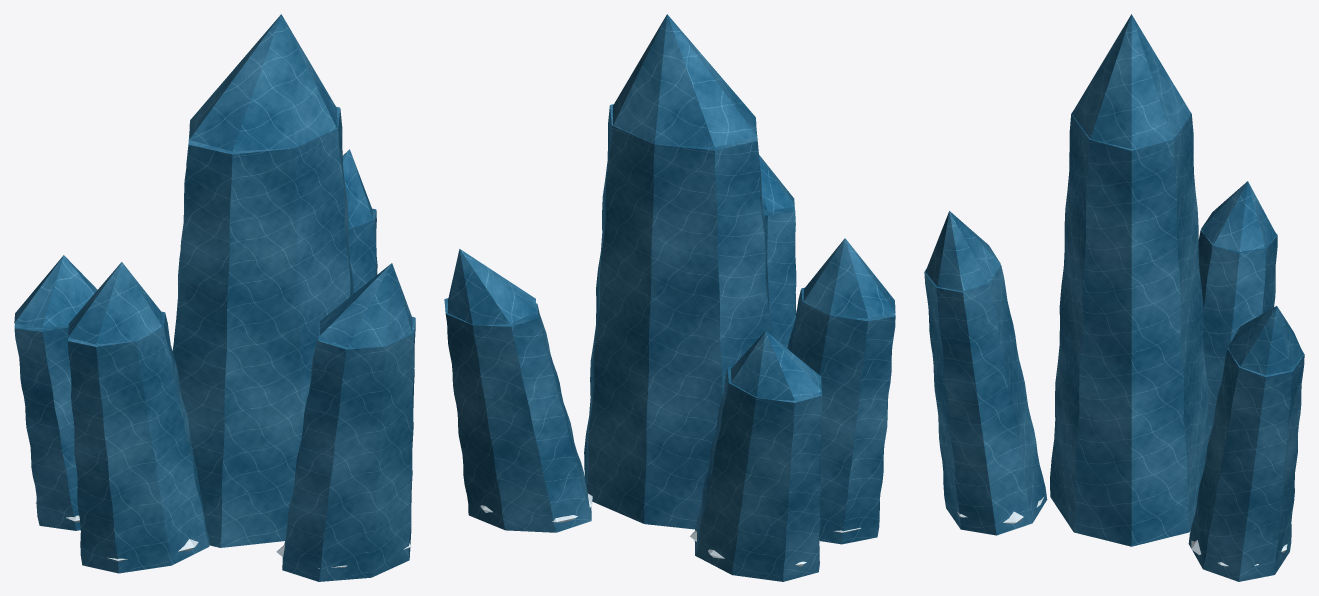
Rendered from ThirdRoom_CliffPillar.fbx.
3 renders of one model, left to right at view 1: azimuth 30°, elevation 25°; view 2: azimuth 150°, elevation 25°; view 3: azimuth 270°, elevation 25°, orthographic. The views are drawn at different scales.
Visible parts, largest first — view 1: WO_ThirdRoom_CliffPillar_LOD0; view 2: WO_ThirdRoom_CliffPillar_LOD0; view 3: WO_ThirdRoom_CliffPillar_LOD0.
Part boxes in pixels (box(x1,y1,x2,y2)): WO_ThirdRoom_CliffPillar_LOD0: box(14, 14, 415, 581); WO_ThirdRoom_CliffPillar_LOD0: box(444, 14, 895, 581); WO_ThirdRoom_CliffPillar_LOD0: box(924, 14, 1304, 581).
Size of what is drawn, in the model's own units: 4.89 by 6 by 4.17.
